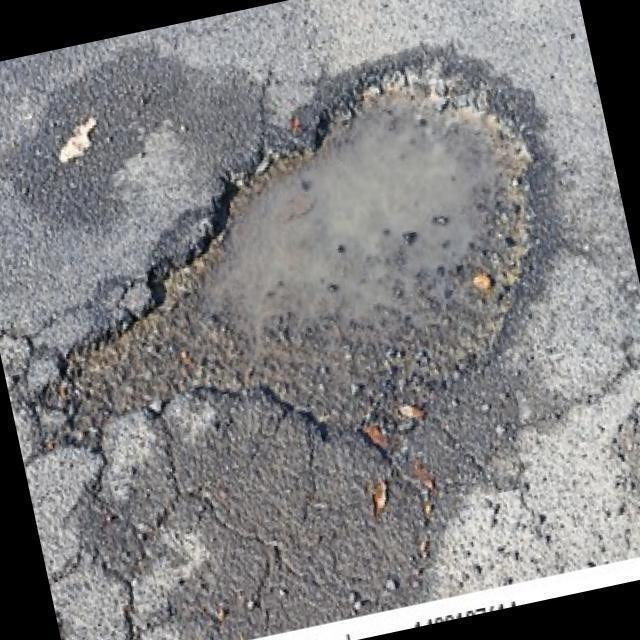pothole: (7, 40, 594, 512)
